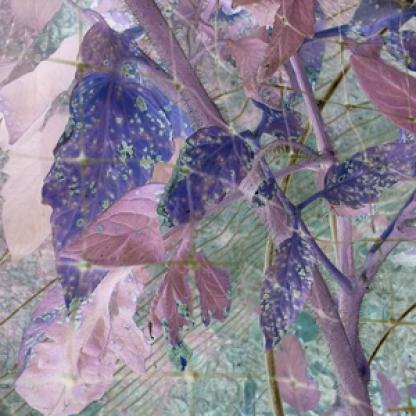Tomato Septoria leaf spot: (42, 68, 179, 320), (155, 121, 269, 257), (252, 234, 323, 361), (313, 147, 399, 220)
